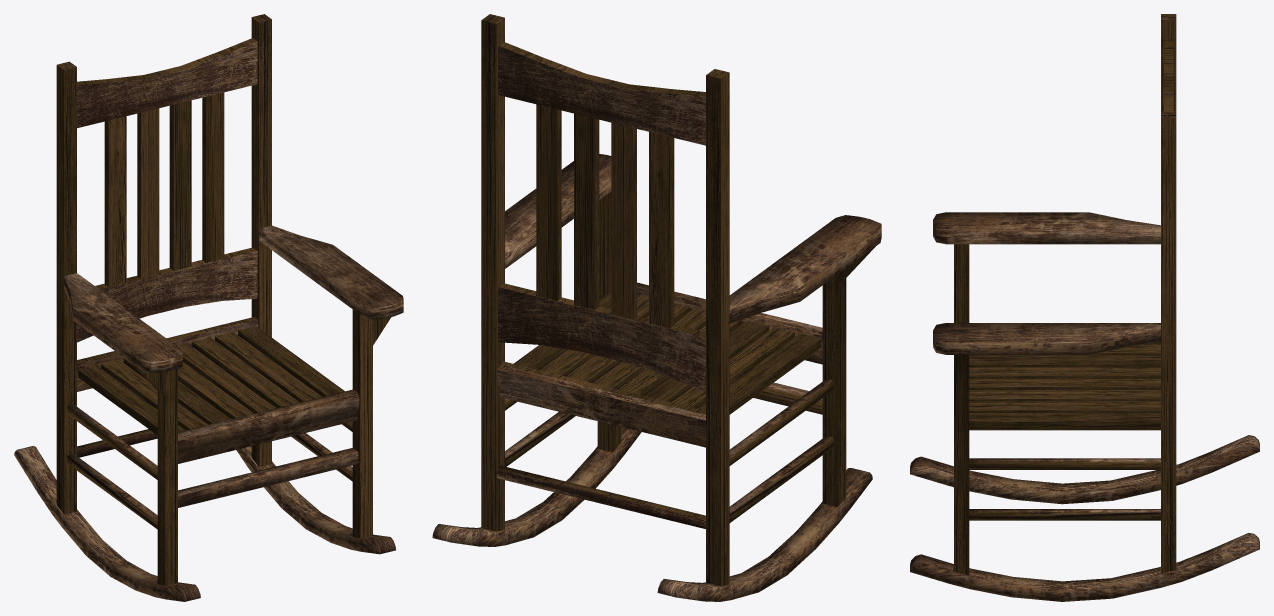
3 renders of one model, left to right at view 1: azimuth 30°, elevation 25°; view 2: azimuth 150°, elevation 25°; view 3: azimuth 270°, elevation 25°, orthographic. The views are drawn at different scales.
Visible parts, largest first — view 1: chair _Material #35_0; view 2: chair _Material #35_0; view 3: chair _Material #35_0.
Boxes of the visible parts, <box> form: chair _Material #35_0: <box>14,14,403,601</box>; chair _Material #35_0: <box>432,14,881,601</box>; chair _Material #35_0: <box>910,14,1259,601</box>.
Size of the model in its own units: 0.6989 by 1.21 by 0.7939.
Materials: 1 (1 with a texture image).
